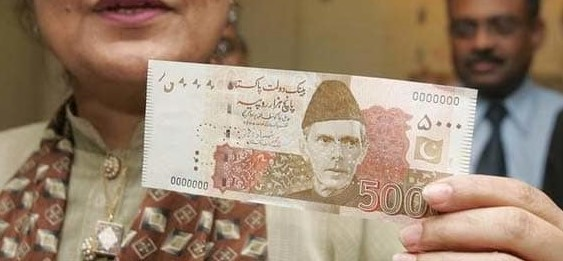5000 rupee: (136, 51, 483, 221)
